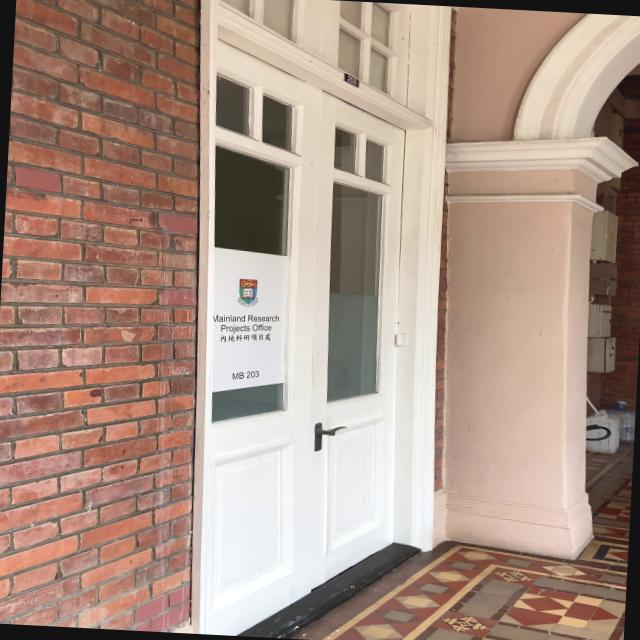room203: (342, 70, 360, 88)
room203Window: (228, 366, 264, 384)
